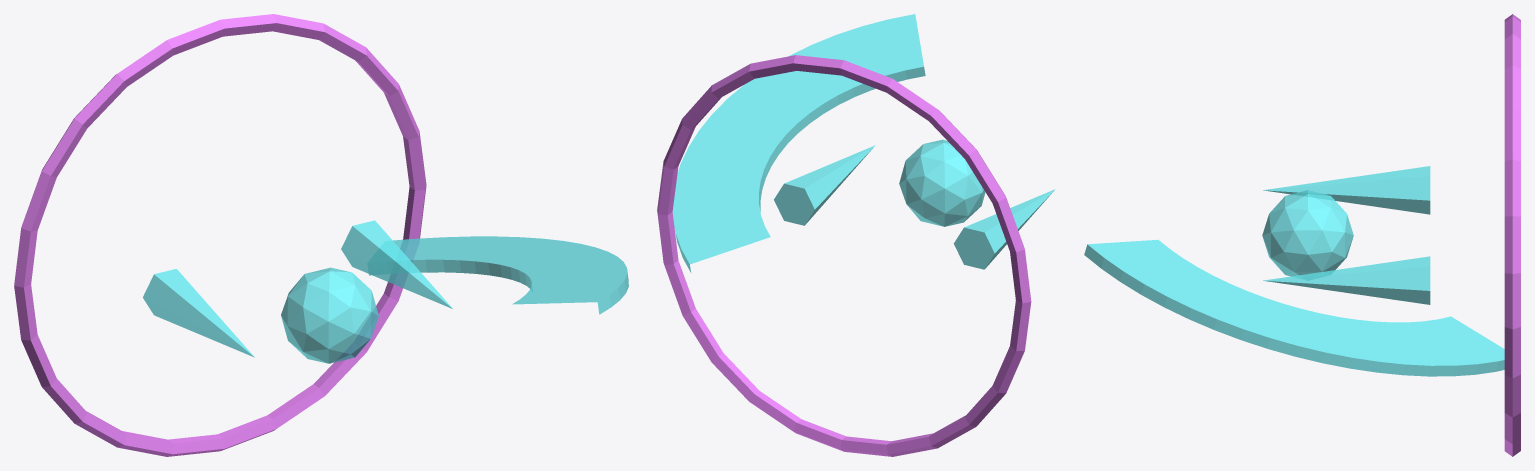
Rendered from 01_special_attack_vfx.glb.
3 renders of one model, left to right at view 1: azimuth 30°, elevation 25°; view 2: azimuth 150°, elevation 25°; view 3: azimuth 270°, elevation 25°, orthographic. The views are drawn at different scales.
Parts seen in each view (by area): view 1: impact_window_ring, combo_slash_or_magic_arc, timing_core, telegraph_spike_b, telegraph_spike_a; view 2: combo_slash_or_magic_arc, impact_window_ring, timing_core, telegraph_spike_b, telegraph_spike_a; view 3: combo_slash_or_magic_arc, impact_window_ring, timing_core, telegraph_spike_b, telegraph_spike_a.
Part boxes in pixels (x1=…): impact_window_ring: x1=14, y1=14, x2=426, y2=456; combo_slash_or_magic_arc: x1=368, y1=236, x2=628, y2=314; timing_core: x1=281, y1=267, x2=378, y2=363; telegraph_spike_b: x1=341, y1=220, x2=452, y2=308; telegraph_spike_a: x1=143, y1=269, x2=254, y2=357; combo_slash_or_magic_arc: x1=672, y1=14, x2=925, y2=272; impact_window_ring: x1=657, y1=55, x2=1031, y2=456; timing_core: x1=899, y1=139, x2=985, y2=226; telegraph_spike_b: x1=774, y1=145, x2=875, y2=225; telegraph_spike_a: x1=953, y1=189, x2=1055, y2=269; combo_slash_or_magic_arc: x1=1084, y1=239, x2=1504, y2=376; impact_window_ring: x1=1504, y1=14, x2=1520, y2=456; timing_core: x1=1262, y1=190, x2=1353, y2=276; telegraph_spike_b: x1=1263, y1=256, x2=1430, y2=304; telegraph_spike_a: x1=1263, y1=166, x2=1430, y2=214.
Bounding box in the file's own units: 1.65 × 1.46 × 1.43.
